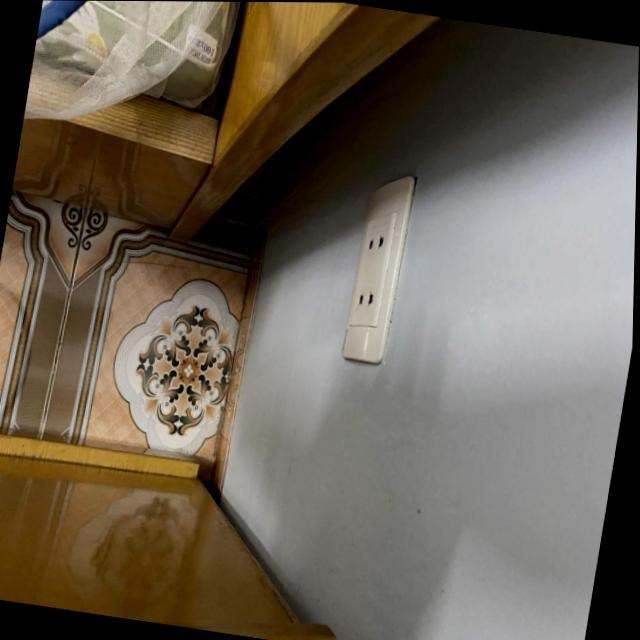outlet: (340, 169, 416, 367)
